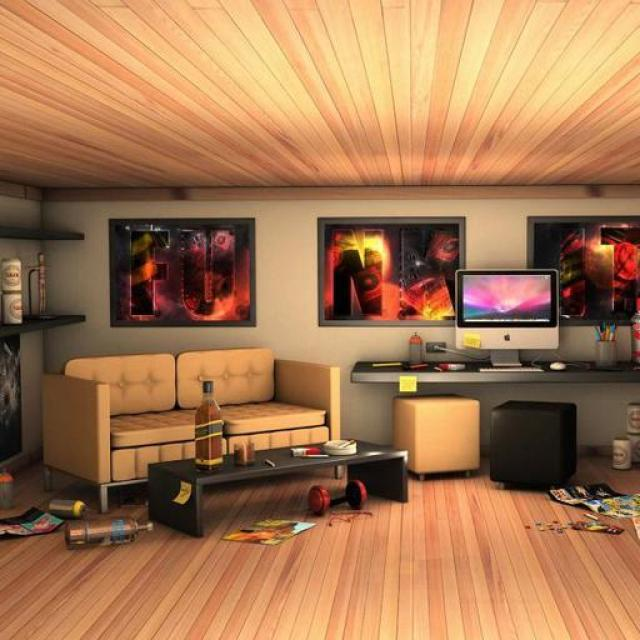couch: (42, 347, 340, 513)
